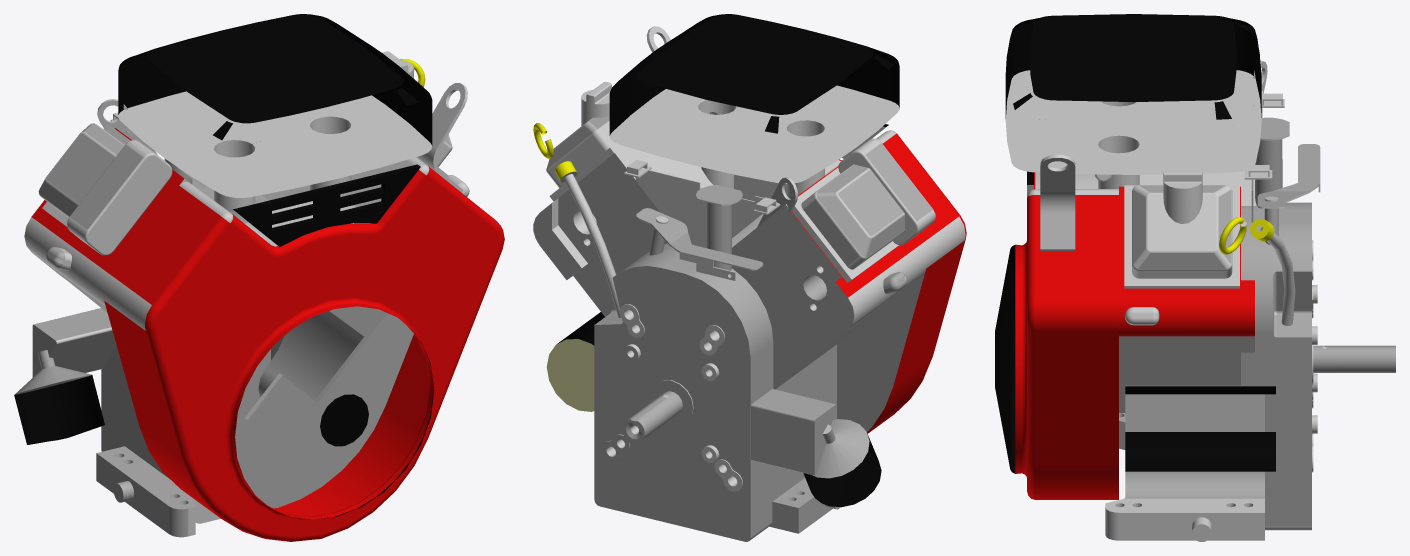
File: 16hp_briggs.glb
The picture shows the model from 3 angles, left to right: view 1: azimuth 30°, elevation 25°; view 2: azimuth 150°, elevation 25°; view 3: azimuth 270°, elevation 25°; orthographic projection. The views are drawn at different scales.
Visible parts, largest first — view 1: Shape_IndexedFaceSet.241, Shape_IndexedFaceSet.112, Shape_IndexedFaceSet.183, Shape_IndexedFaceSet.312, Shape_IndexedFaceSet.234, Shape_IndexedFaceSet.392, Shape_IndexedFaceSet.024, Shape_IndexedFaceSet.082, Shape_IndexedFaceSet.243, Shape_IndexedFaceSet.226, Shape_IndexedFaceSet.251, Shape_IndexedFaceSet.301 (+33 smaller); view 2: Shape_IndexedFaceSet.059, Shape_IndexedFaceSet.112, Shape_IndexedFaceSet.183, Shape_IndexedFaceSet.102, Shape_IndexedFaceSet.089, Shape_IndexedFaceSet.312, Shape_IndexedFaceSet.251, Shape_IndexedFaceSet.243, Shape_IndexedFaceSet.515, Shape_IndexedFaceSet.234, Shape_IndexedFaceSet.308, Shape_IndexedFaceSet.078 (+40 smaller); view 3: Shape_IndexedFaceSet.112, Shape_IndexedFaceSet.183, Shape_IndexedFaceSet.391, Shape_IndexedFaceSet.316, Shape_IndexedFaceSet.077, Shape_IndexedFaceSet.079, Shape_IndexedFaceSet.313, Shape_IndexedFaceSet.085, Shape_IndexedFaceSet.080, Shape_IndexedFaceSet.262, Shape_IndexedFaceSet.075, Shape_IndexedFaceSet.257 (+34 smaller).
Boxes of the visible parts, left/top/right/bottom form: Shape_IndexedFaceSet.241: left=156, top=175, right=500, bottom=536; Shape_IndexedFaceSet.112: left=118, top=91, right=431, bottom=197; Shape_IndexedFaceSet.183: left=146, top=14, right=403, bottom=123; Shape_IndexedFaceSet.312: left=235, top=313, right=413, bottom=508; Shape_IndexedFaceSet.234: left=31, top=128, right=220, bottom=304; Shape_IndexedFaceSet.392: left=278, top=407, right=419, bottom=516; Shape_IndexedFaceSet.024: left=236, top=167, right=420, bottom=246; Shape_IndexedFaceSet.082: left=266, top=312, right=361, bottom=400; Shape_IndexedFaceSet.243: left=104, top=300, right=181, bottom=457; Shape_IndexedFaceSet.226: left=87, top=155, right=171, bottom=254; Shape_IndexedFaceSet.251: left=101, top=345, right=169, bottom=478; Shape_IndexedFaceSet.301: left=35, top=375, right=104, bottom=440; Shape_IndexedFaceSet.059: left=594, top=266, right=750, bottom=541; Shape_IndexedFaceSet.112: left=610, top=85, right=899, bottom=183; Shape_IndexedFaceSet.183: left=636, top=14, right=873, bottom=114; Shape_IndexedFaceSet.102: left=732, top=204, right=841, bottom=389; Shape_IndexedFaceSet.089: left=558, top=153, right=667, bottom=316; Shape_IndexedFaceSet.312: left=837, top=270, right=925, bottom=431; Shape_IndexedFaceSet.251: left=750, top=343, right=836, bottom=536; Shape_IndexedFaceSet.243: left=893, top=240, right=964, bottom=385; Shape_IndexedFaceSet.515: left=635, top=170, right=763, bottom=247; Shape_IndexedFaceSet.234: left=791, top=134, right=958, bottom=297; Shape_IndexedFaceSet.308: left=751, top=406, right=814, bottom=474; Shape_IndexedFaceSet.078: left=546, top=339, right=594, bottom=411; Shape_IndexedFaceSet.112: left=1005, top=70, right=1261, bottom=174; Shape_IndexedFaceSet.183: left=1029, top=14, right=1237, bottom=101; Shape_IndexedFaceSet.391: left=1035, top=331, right=1118, bottom=466; Shape_IndexedFaceSet.316: left=1035, top=186, right=1254, bottom=300; Shape_IndexedFaceSet.077: left=1125, top=333, right=1311, bottom=526; Shape_IndexedFaceSet.079: left=1125, top=386, right=1275, bottom=471; Shape_IndexedFaceSet.313: left=1035, top=300, right=1254, bottom=336; Shape_IndexedFaceSet.085: left=1119, top=336, right=1254, bottom=412; Shape_IndexedFaceSet.080: left=1125, top=394, right=1264, bottom=431; Shape_IndexedFaceSet.262: left=1125, top=471, right=1264, bottom=498; Shape_IndexedFaceSet.075: left=1241, top=222, right=1311, bottom=332; Shape_IndexedFaceSet.257: left=1119, top=513, right=1264, bottom=540.
Bounding box in the file's own units: 0.4104 × 0.4378 × 0.3674.
